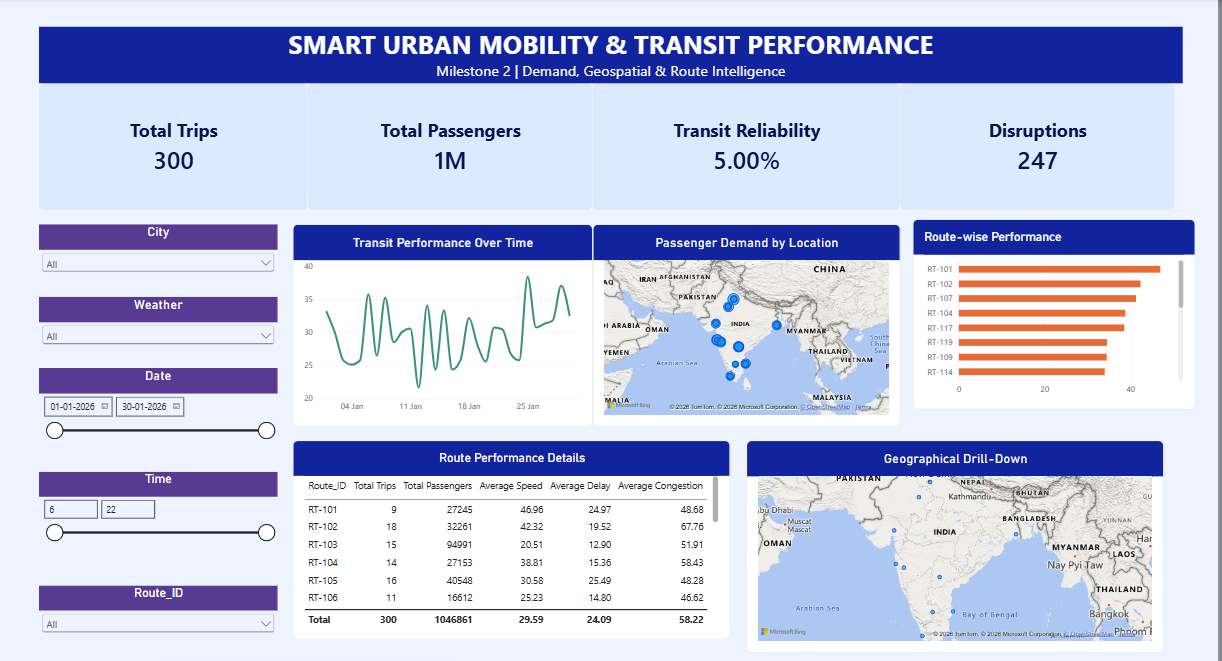

The page's visual inventory and layout, read from the dashboard file:
{"tool":"powerbi","page":{"name":"Milestone 2 – Demand & Transit Performance","canvas":[1920,1080],"ordinal":1},"visuals":[{"type":"cardVisual","fields":{"Data":["FactMobilityTable.Total Trips"]},"box":[184.1,125.2,395.7,187.7],"z":0},{"type":"cardVisual","fields":{"Data":["FactMobilityTable.Total Passengers"]},"box":[579.8,125.2,419.6,187.7],"z":1000},{"type":"cardVisual","title":"Transit Reliability","fields":{"Data":["FactMobilityTable.Transit Reliability %"]},"box":[999.4,125.2,452.8,187.7],"z":2000},{"type":"cardVisual","fields":{"Data":["FactMobilityTable.Disruptions"]},"box":[1452.2,125.2,403.1,187.7],"z":3000},{"type":"slicer","title":"Date","fields":{"Values":["Dim_Date.Date"]},"box":[184.1,544.8,351.5,121.5],"z":4000},{"type":"slicer","title":"Route_ID","fields":{"Values":["Dim_Route.Route_ID"]},"box":[184.1,865,351.5,99.4],"z":5000},{"type":"slicer","title":"City","fields":{"Values":["Dim_Location.City"]},"box":[184.1,333.1,351.5,92],"z":6000},{"type":"slicer","title":"Weather","fields":{"Values":["Dim_Weather.Weather"]},"box":[184.1,439.9,351.5,86.5],"z":7000},{"type":"slicer","title":"Time","fields":{"Values":["FactMobilityTable.Hour"]},"box":[184.1,697.5,351.5,127],"z":8000},{"type":"clusteredBarChart","title":"Route-wise Performance","fields":{"Category":["Dim_Route.Route_ID"],"Y":["FactMobilityTable.Average Speed"]},"box":[1470.6,325.8,416,279.8],"z":9000},{"type":"lineChart","title":"Transit Performance Over Time","fields":{"Y":["FactMobilityTable.Average Speed"],"Category":["Dim_Date.Date"]},"box":[557.7,333.1,441.7,298.2],"z":10000},{"type":"map","title":"Geographical Drill-Down","fields":{"Category":["Dim_Location.City","Dim_Location.Zone","Dim_Location.Location"]},"box":[1225.8,651.5,614.7,312.9],"z":11000},{"type":"tableEx","title":"Route Performance Details","fields":{"Values":["Dim_Route.Route_ID","FactMobilityTable.Total Trips","FactMobilityTable.Total Passengers","FactMobilityTable.Average Speed","FactMobilityTable.Average Delay","FactMobilityTable.Average Congestion"]},"box":[557.7,651.5,644.2,292.6],"z":12000},{"type":"textbox","box":[184.1,42.3,1684.1,82.8],"z":13000},{"type":"map","title":"Passenger Demand by Location","fields":{"Y":["Dim_Location.Latitude"],"X":["Dim_Location.Longitude"],"Size":["FactMobilityTable.Total Passengers"]},"box":[999.4,333.1,452.8,298.2],"z":14000}]}

Visuals, with their boxes on the page's 1920x1080 design canvas (x1, y1, x2, y2). These are canvas units, not pixel positions in the 1222x661 screenshot, which may show the page scaled, cropped or inside an application window:
cardVisual - FactMobilityTable.Total Trips: (left=184, top=125, right=580, bottom=313)
cardVisual - FactMobilityTable.Total Passengers: (left=580, top=125, right=999, bottom=313)
"Transit Reliability" cardVisual: (left=999, top=125, right=1452, bottom=313)
cardVisual - FactMobilityTable.Disruptions: (left=1452, top=125, right=1855, bottom=313)
"Date" slicer: (left=184, top=545, right=536, bottom=666)
"Route_ID" slicer: (left=184, top=865, right=536, bottom=964)
"City" slicer: (left=184, top=333, right=536, bottom=425)
"Weather" slicer: (left=184, top=440, right=536, bottom=526)
"Time" slicer: (left=184, top=698, right=536, bottom=824)
"Route-wise Performance" clusteredBarChart: (left=1471, top=326, right=1887, bottom=606)
"Transit Performance Over Time" lineChart: (left=558, top=333, right=999, bottom=631)
"Geographical Drill-Down" map: (left=1226, top=652, right=1840, bottom=964)
"Route Performance Details" tableEx: (left=558, top=652, right=1202, bottom=944)
textbox: (left=184, top=42, right=1868, bottom=125)
"Passenger Demand by Location" map: (left=999, top=333, right=1452, bottom=631)
